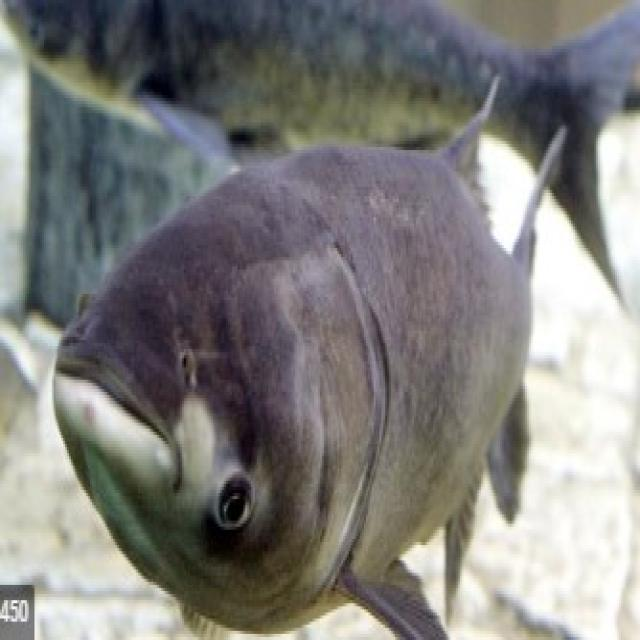Big-Head-Carp: (17, 52, 592, 640)
